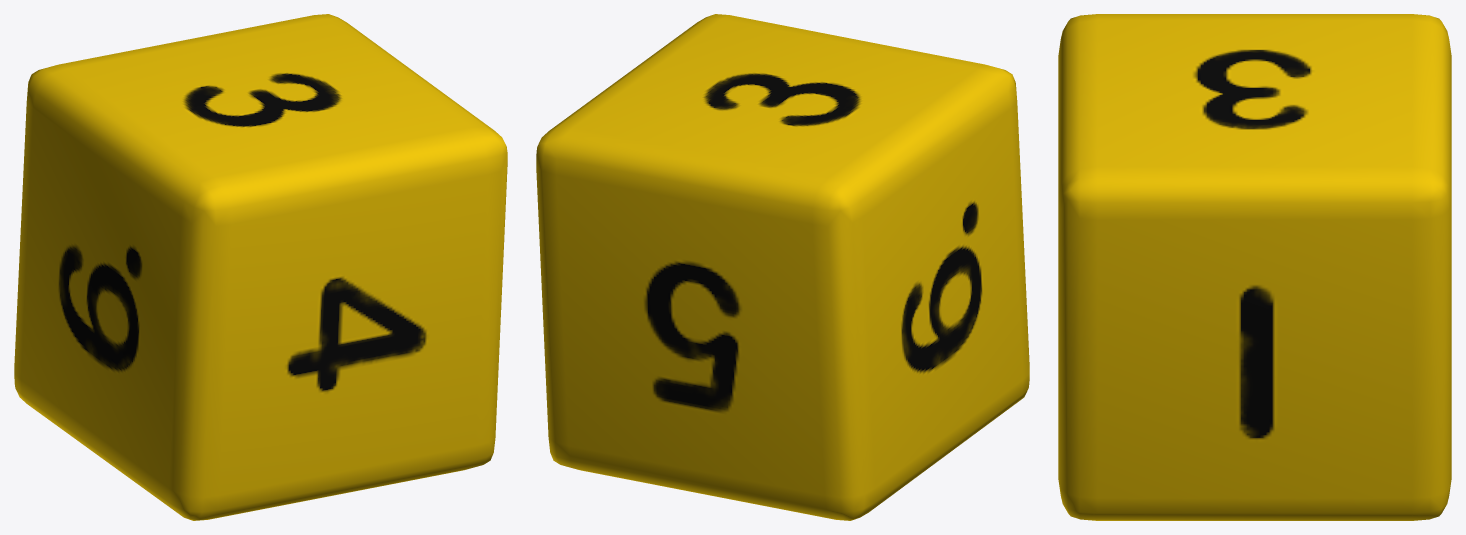
3 renders of one model, left to right at view 1: azimuth 30°, elevation 25°; view 2: azimuth 150°, elevation 25°; view 3: azimuth 270°, elevation 25°, orthographic. The views are drawn at different scales.
Visible parts, largest first — view 1: Six_sided_cube_pivot.003; view 2: Six_sided_cube_pivot.003; view 3: Six_sided_cube_pivot.003.
Boxes of the visible parts, x1=… form: Six_sided_cube_pivot.003: x1=14, y1=14, x2=507, y2=520; Six_sided_cube_pivot.003: x1=536, y1=14, x2=1029, y2=520; Six_sided_cube_pivot.003: x1=1058, y1=14, x2=1451, y2=520.
Size of the model in its own units: 1.55 by 1.55 by 1.5.
Materials: 1 (1 with a texture image).
